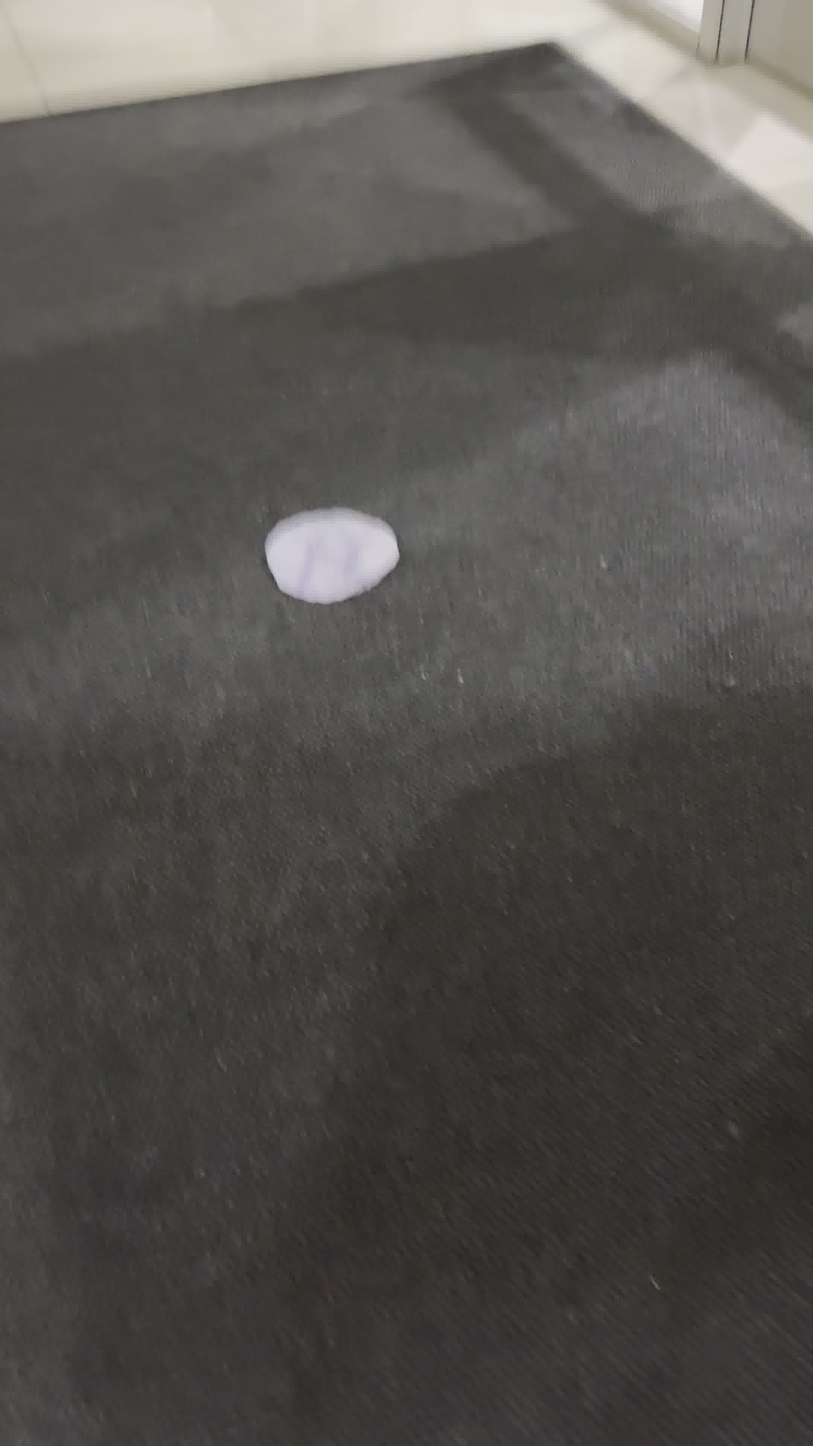Target: (264, 507, 400, 604)
